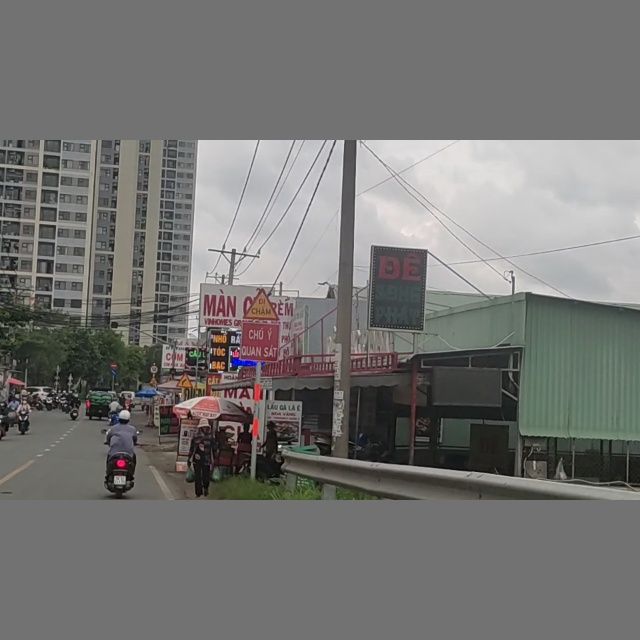W.201b: (176, 372, 193, 389)
W.245a: (245, 290, 278, 319)
